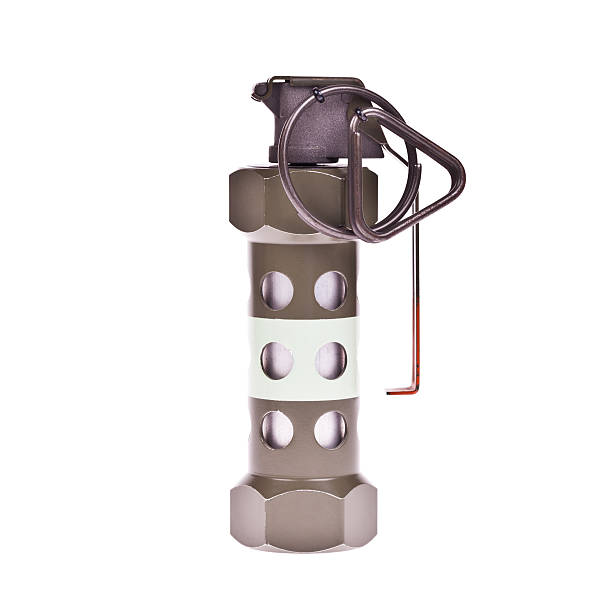e1: (219, 73, 469, 553)
